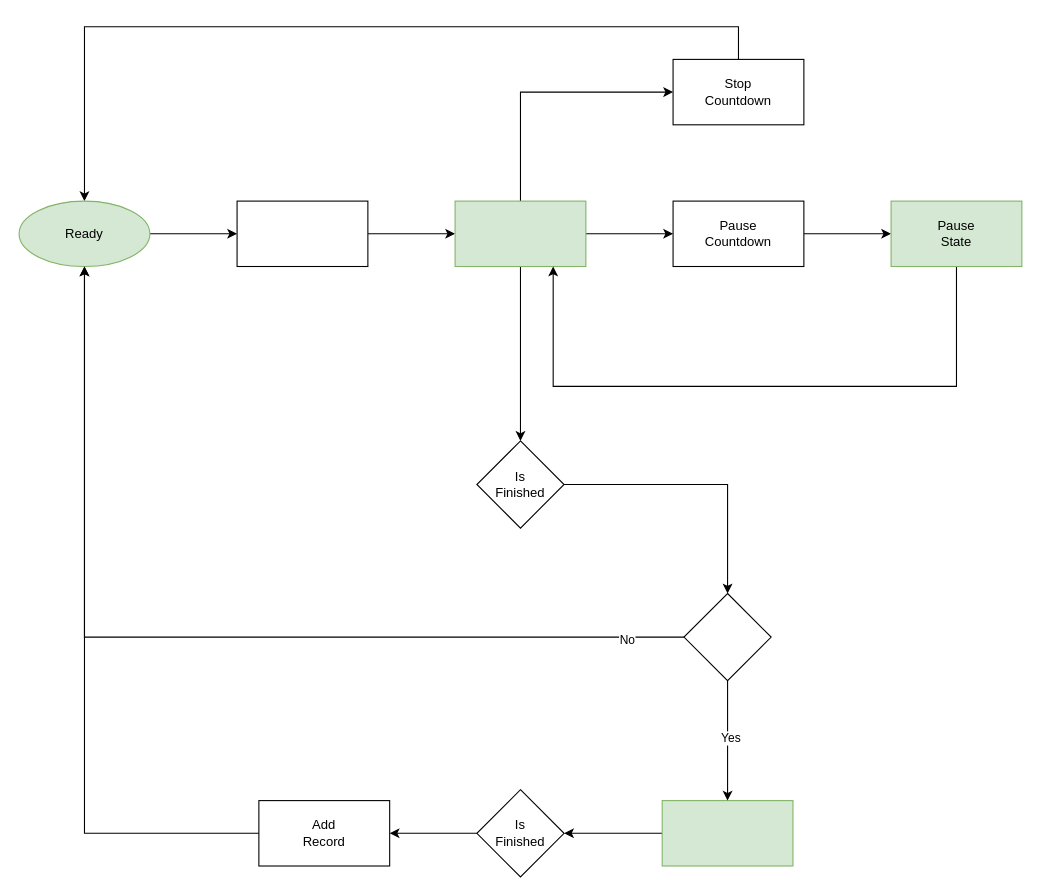
Image size: 1041x896. Some labels were removed from this diagram. Here are the shapes that lost their labels. From the top down, the box of each, then its label:
(236, 200, 368, 267): Start Countdown
(454, 200, 586, 267): Focus In Process
(683, 592, 771, 681): Is go to rest
(661, 800, 793, 866): Rest In Process
